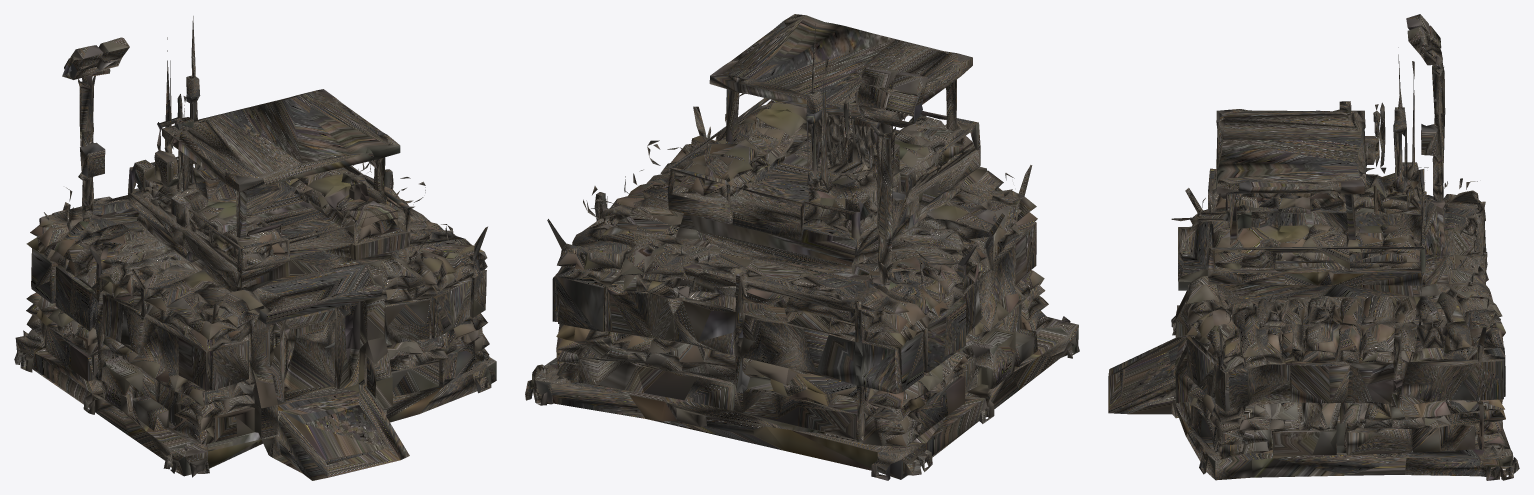
The model's file is bunker.glb.
3 views of the same model, side by side, from view 1: azimuth 30°, elevation 25°; view 2: azimuth 150°, elevation 25°; view 3: azimuth 270°, elevation 25° (orthographic). The views are drawn at different scales.
Parts seen in each view (by area): view 1: output_unwrapped; view 2: output_unwrapped; view 3: output_unwrapped.
Part boxes in pixels (bbox=[...]): output_unwrapped: bbox=[14, 16, 496, 480]; output_unwrapped: bbox=[525, 14, 1079, 480]; output_unwrapped: bbox=[1108, 14, 1519, 480].
Size of the model in its own units: 1.78 by 1.72 by 1.9.
1 material, 1 textured.
